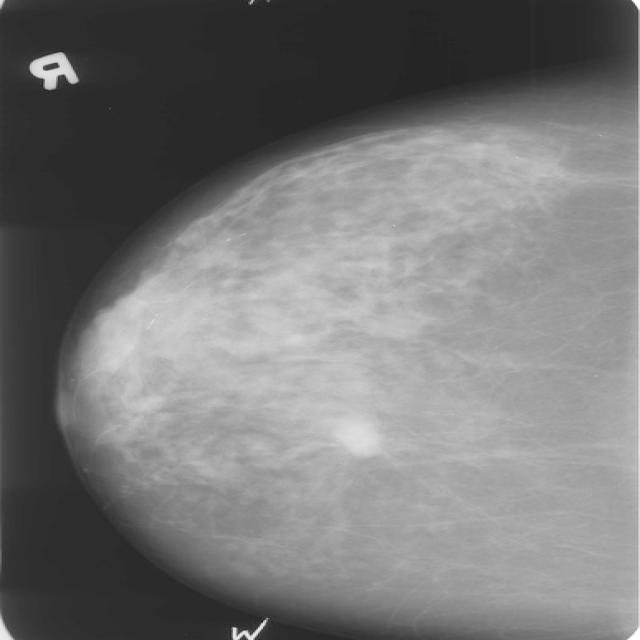tumour: (334, 421, 380, 456)
